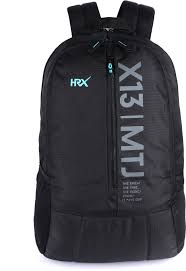backpack: (33, 0, 185, 263)
